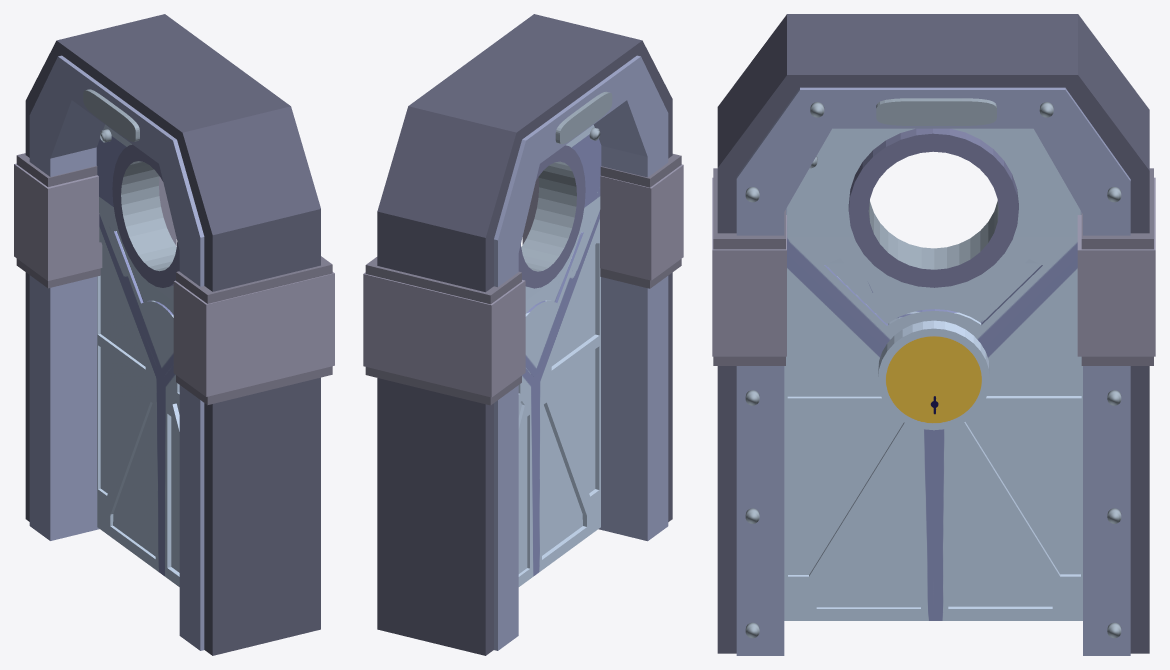
Rendered from door.fbx.
3 renders of one model, left to right at view 1: azimuth 30°, elevation 25°; view 2: azimuth 150°, elevation 25°; view 3: azimuth 270°, elevation 25°, orthographic. The views are drawn at different scales.
Parts seen in each view (by area): view 1: 立方体.002, 立方体.007, 立方体.005, door2, 立方体.008, 窓枠, door1, door3, 立方体.009; view 2: 立方体.002, 立方体.007, 立方体.008, door3, 立方体.005, 窓枠, door1, door2, 立方体.009; view 3: 立方体.007, 立方体.002, door3, door2, door1, 窓枠, 立方体.008, 立方体.005, 円柱, 立方体.012.
Part boxes in pixels (x1=…): 立方体.002: x1=25, y1=14, x2=320, y2=655; 立方体.007: x1=29, y1=55, x2=204, y2=650; 立方体.005: x1=173, y1=256, x2=334, y2=405; door2: x1=97, y1=214, x2=161, y2=573; 立方体.008: x1=14, y1=153, x2=176, y2=288; 窓枠: x1=112, y1=144, x2=179, y2=287; door1: x1=96, y1=124, x2=173, y2=375; door3: x1=161, y1=365, x2=179, y2=586; 立方体.009: x1=83, y1=89, x2=139, y2=141; 立方体.002: x1=377, y1=14, x2=672, y2=655; 立方体.007: x1=494, y1=55, x2=668, y2=650; 立方体.008: x1=363, y1=257, x2=525, y2=405; door3: x1=535, y1=211, x2=600, y2=574; 立方体.005: x1=522, y1=154, x2=683, y2=288; 窓枠: x1=518, y1=145, x2=585, y2=288; door1: x1=525, y1=125, x2=601, y2=376; door2: x1=518, y1=367, x2=536, y2=586; 立方体.009: x1=555, y1=91, x2=612, y2=144; 立方体.007: x1=736, y1=87, x2=1130, y2=655; 立方体.002: x1=717, y1=14, x2=1149, y2=653; door3: x1=784, y1=253, x2=935, y2=620; door2: x1=933, y1=257, x2=1082, y2=620; door1: x1=786, y1=128, x2=1081, y2=347; 窓枠: x1=848, y1=128, x2=1018, y2=287; 立方体.008: x1=1077, y1=168, x2=1155, y2=365; 立方体.005: x1=712, y1=168, x2=786, y2=365; 円柱: x1=878, y1=320, x2=989, y2=430; 立方体.012: x1=876, y1=98, x2=996, y2=125.
Size of the model in its own units: 2.74 by 10.18 by 7.07.
Materials: 29 (4 with a texture image).
